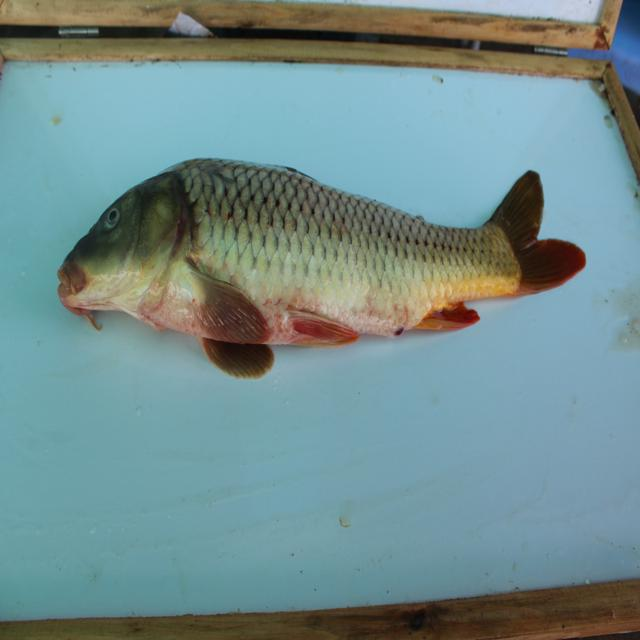CommonCarp: (41, 140, 594, 387)
